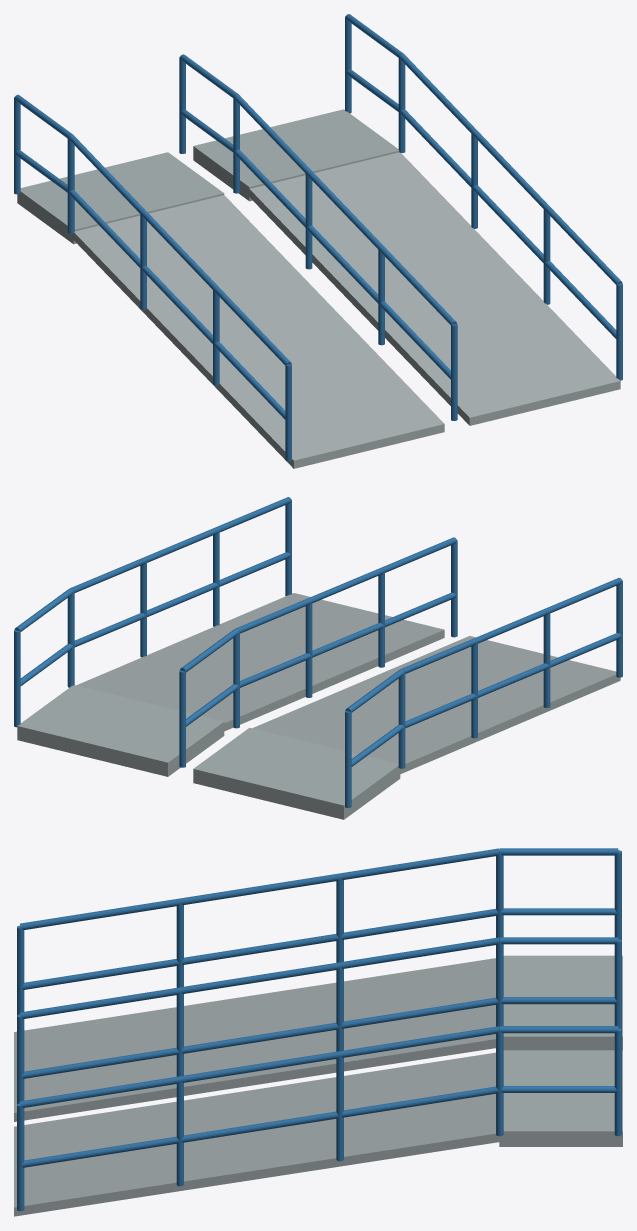
Rendered from scendance-plan-accessible-ramp-dual.glb.
3 views of the same model, one above another, from view 1: azimuth 30°, elevation 25°; view 2: azimuth 150°, elevation 25°; view 3: azimuth 270°, elevation 25° (orthographic). The views are drawn at different scales.
Bounding box in the file's own units: 3.22 × 1.59 × 4.57.
